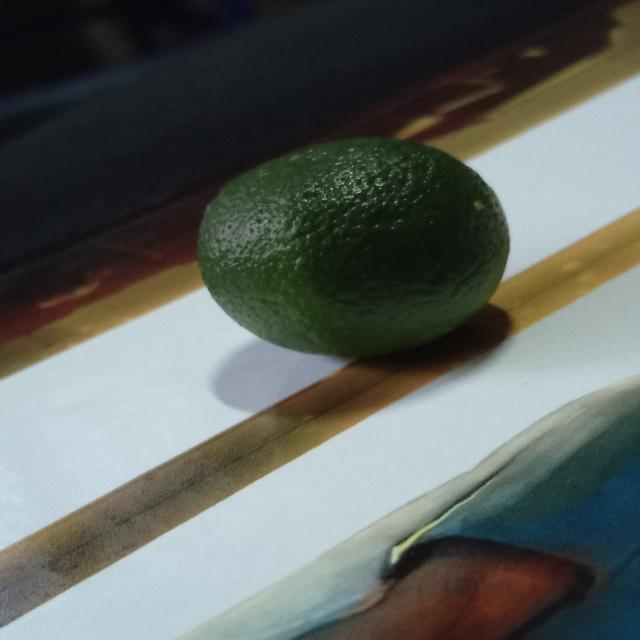heathy: (198, 130, 520, 356)
